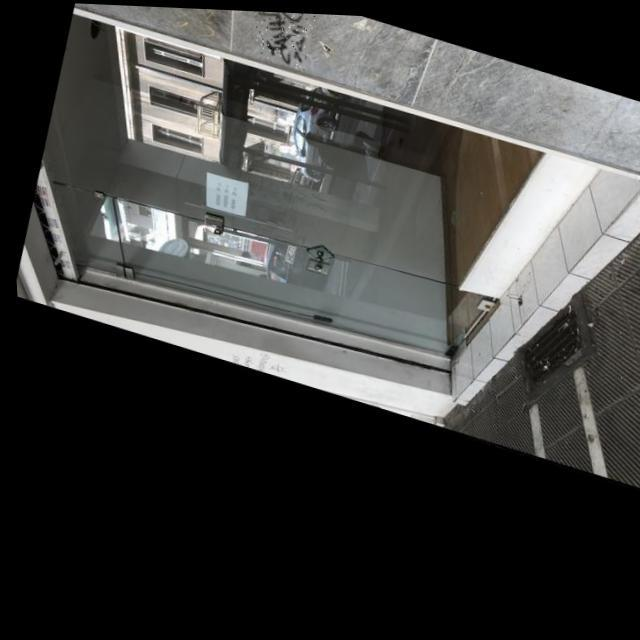-: (247, 8, 322, 68)
